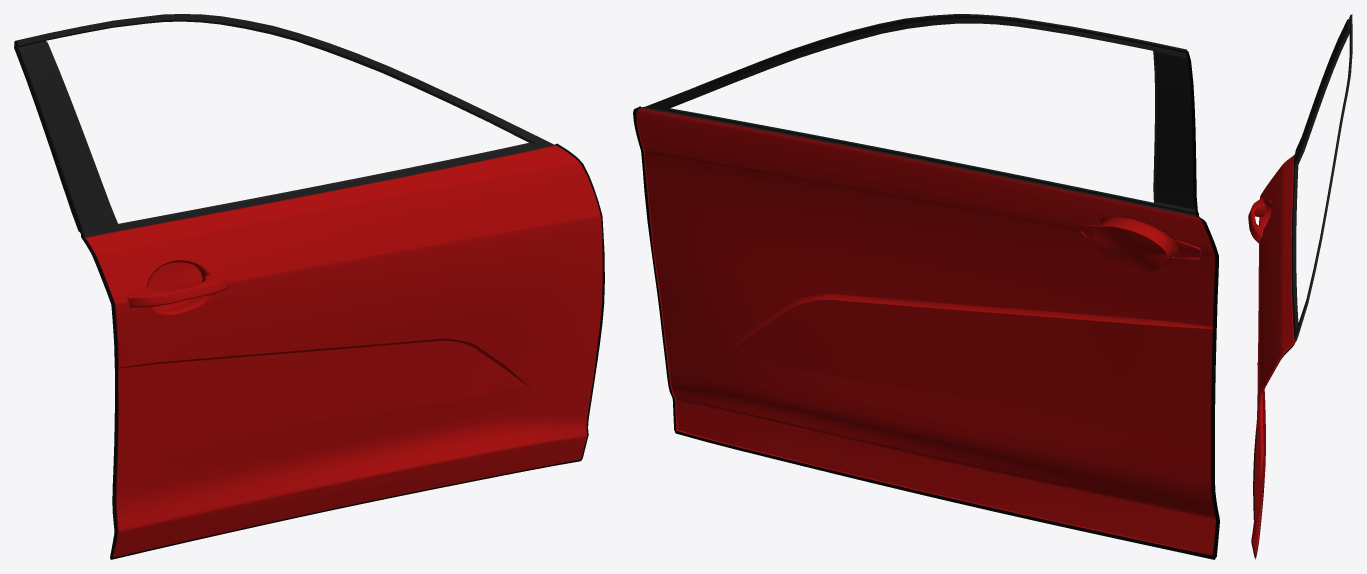
3 renders of one model, left to right at view 1: azimuth 30°, elevation 25°; view 2: azimuth 150°, elevation 25°; view 3: azimuth 270°, elevation 25°, orthographic. The views are drawn at different scales.
Visible parts, largest first — view 1: Y175_18_281B_R_1_DaS_Y175_18_281B_R, Y175_18_281B_R_Y175_18_281B_R_2_D, Y175_18_281B_R_1_DaS_Y175_18_281B_R_E, Y175_18_281B_R_Y175_18_281B_R_3_D; view 2: Y175_18_281B_R_1_DaS_Y175_18_281B_R, Y175_18_281B_R_Y175_18_281B_R_2_D, Y175_18_281B_R_1_DaS_Y175_18_281B_R_E, Y175_18_281B_R_Y175_18_281B_R_3_D; view 3: Y175_18_281B_R_1_DaS_Y175_18_281B_R, Y175_18_281B_R_Y175_18_281B_R_2_D, Y175_18_281B_R_1_DaS_Y175_18_281B_R_E, Y175_18_281B_R_Y175_18_281B_R_3_D.
Part boxes in pixels (left/top/right/bottom): Y175_18_281B_R_1_DaS_Y175_18_281B_R: left=86, top=146, right=602, bottom=557; Y175_18_281B_R_Y175_18_281B_R_2_D: left=16, top=14, right=554, bottom=237; Y175_18_281B_R_1_DaS_Y175_18_281B_R_E: left=84, top=145, right=600, bottom=557; Y175_18_281B_R_Y175_18_281B_R_3_D: left=14, top=40, right=604, bottom=559; Y175_18_281B_R_1_DaS_Y175_18_281B_R: left=637, top=108, right=1215, bottom=554; Y175_18_281B_R_Y175_18_281B_R_2_D: left=642, top=14, right=1196, bottom=216; Y175_18_281B_R_1_DaS_Y175_18_281B_R_E: left=636, top=107, right=1215, bottom=555; Y175_18_281B_R_Y175_18_281B_R_3_D: left=633, top=51, right=1219, bottom=559; Y175_18_281B_R_1_DaS_Y175_18_281B_R: left=1248, top=155, right=1293, bottom=553; Y175_18_281B_R_Y175_18_281B_R_2_D: left=1291, top=14, right=1352, bottom=341; Y175_18_281B_R_1_DaS_Y175_18_281B_R_E: left=1250, top=155, right=1295, bottom=557; Y175_18_281B_R_Y175_18_281B_R_3_D: left=1252, top=14, right=1352, bottom=559.
Size of the model in its own units: 130 by 117 by 30.21.
